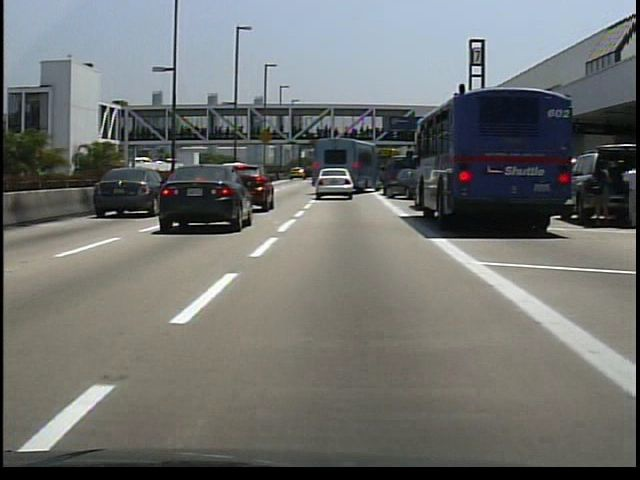person: (583, 156, 612, 226), (615, 159, 640, 227)
